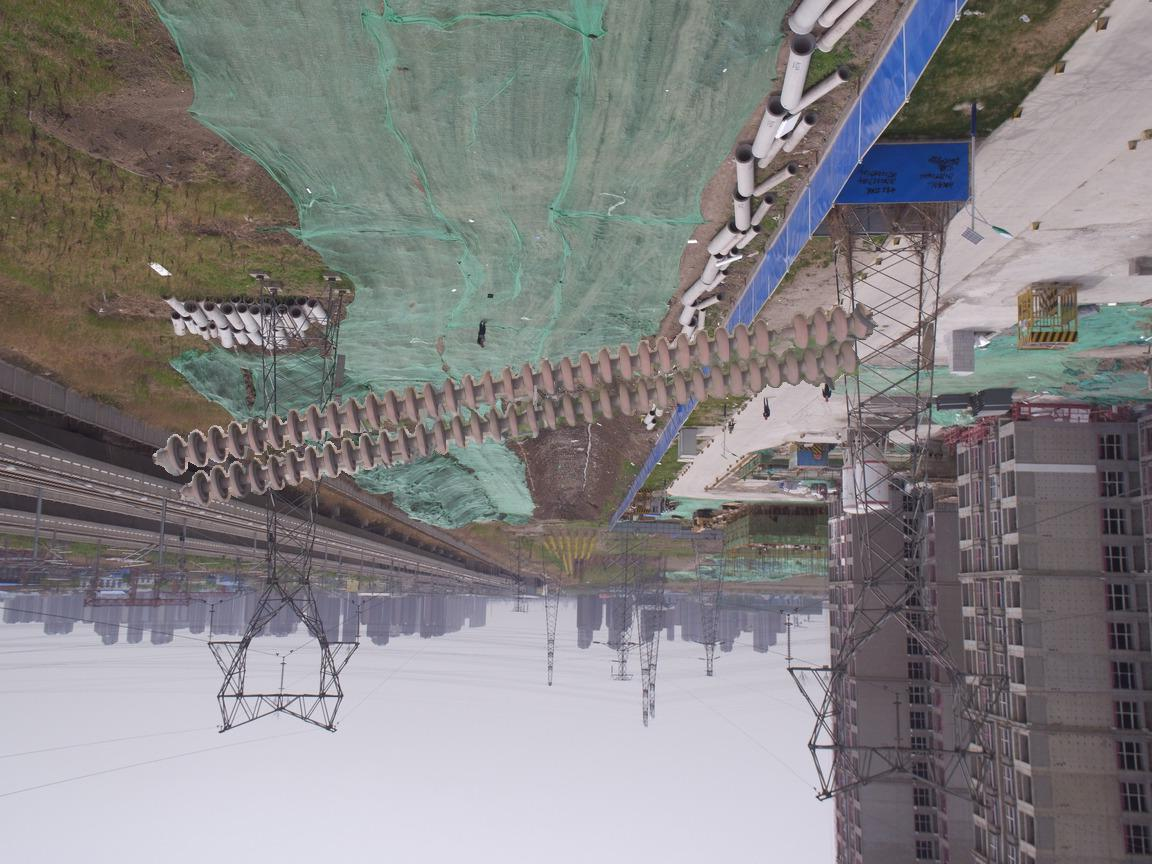insulator: (149, 298, 879, 507)
insulator_stringdrop: (750, 312, 811, 358)
